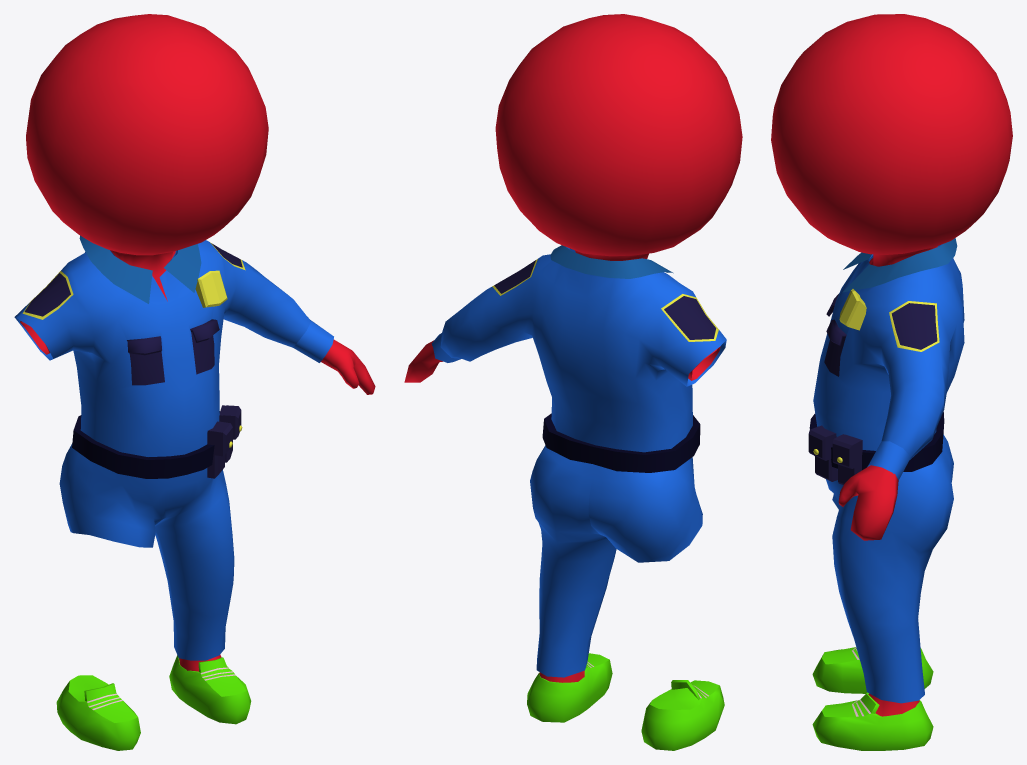
Rendered from основной.fbx.
The picture shows the model from 3 angles, left to right: view 1: azimuth 30°, elevation 25°; view 2: azimuth 150°, elevation 25°; view 3: azimuth 270°, elevation 25°; orthographic projection.
Parts seen in each view (by area): view 1: Stickman_heads_sphere_03, Shirt, Police_pants, Shoes_01; view 2: Stickman_heads_sphere_03, Shirt, Police_pants, Shoes_01; view 3: Stickman_heads_sphere_03, Shirt, Police_pants, Shoes_01.
Boxes of the visible parts, <box> form: Stickman_heads_sphere_03: <box>20,14,375,671</box>; Shirt: <box>14,235,333,456</box>; Police_pants: <box>59,405,242,660</box>; Shoes_01: <box>56,655,251,750</box>; Stickman_heads_sphere_03: <box>404,14,742,682</box>; Shirt: <box>431,245,726,452</box>; Police_pants: <box>530,413,702,677</box>; Shoes_01: <box>527,653,724,750</box>; Stickman_heads_sphere_03: <box>771,14,1012,716</box>; Shirt: <box>813,238,964,480</box>; Police_pants: <box>808,412,953,703</box>; Shoes_01: <box>812,647,933,750</box>.
Size of the model in its own units: 94.01 by 186 by 59.32.
